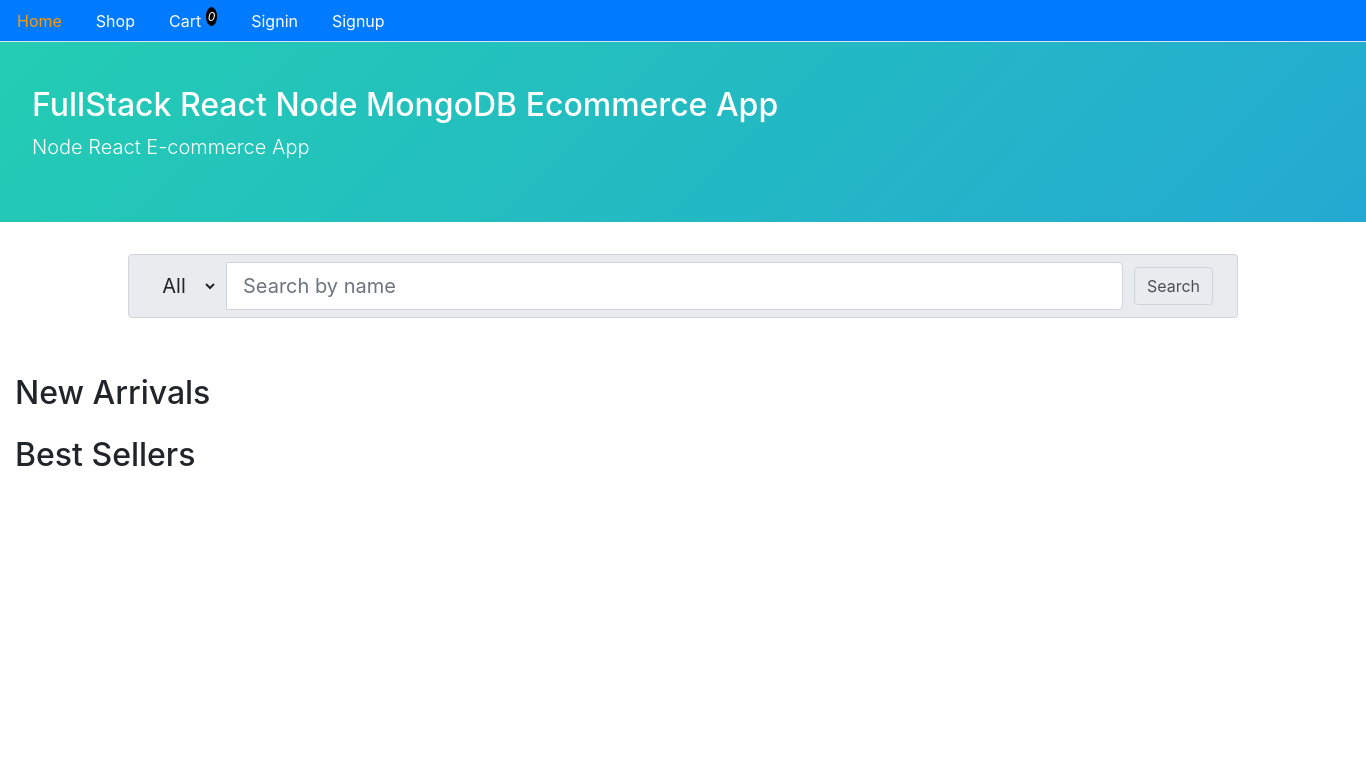
Test case: public navigation › navigates to the Signup page
Click the link "Signup" at (359, 21), box [332,11,385,31]
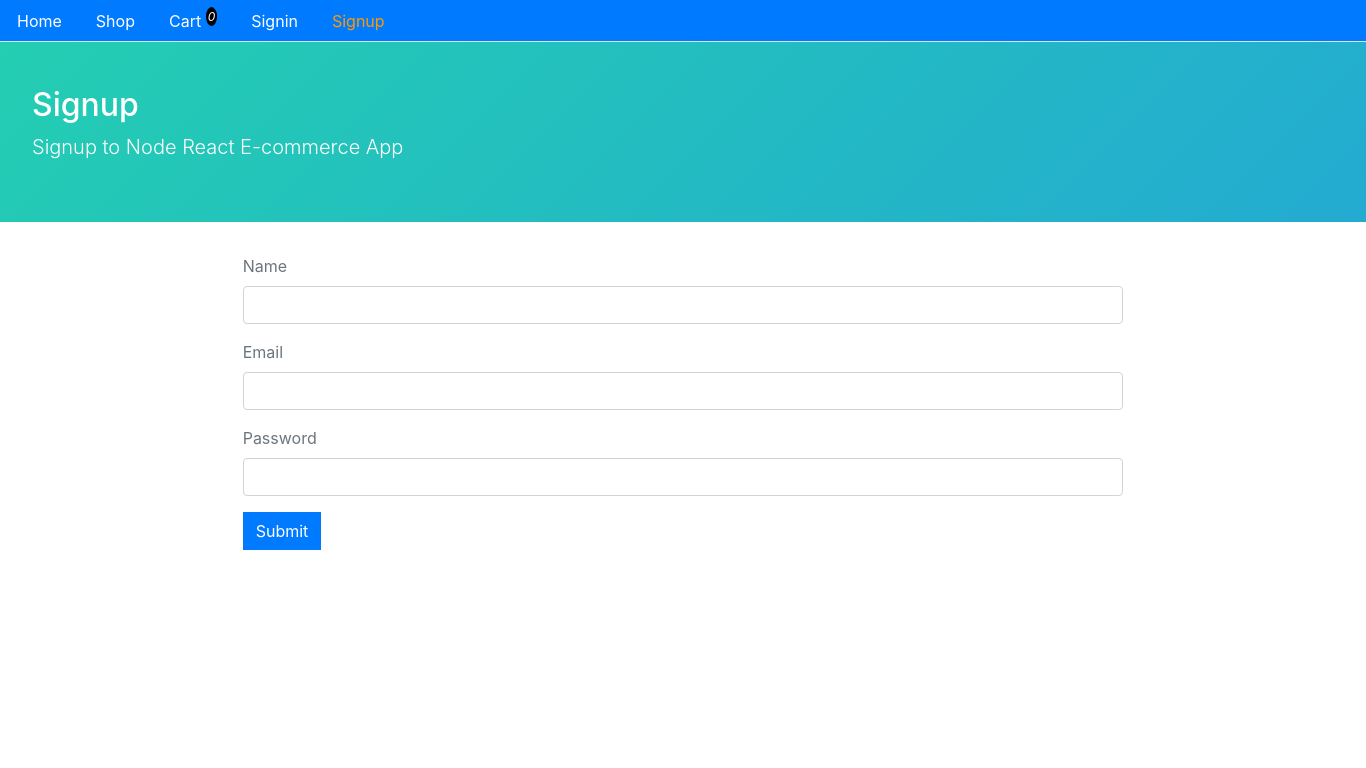
Check: the text "Name" is shown, box [243,254,287,278]
Check: the text "Email" is shown, box [243,340,283,364]
Check: the text "Password" is shown, box [243,426,317,450]
